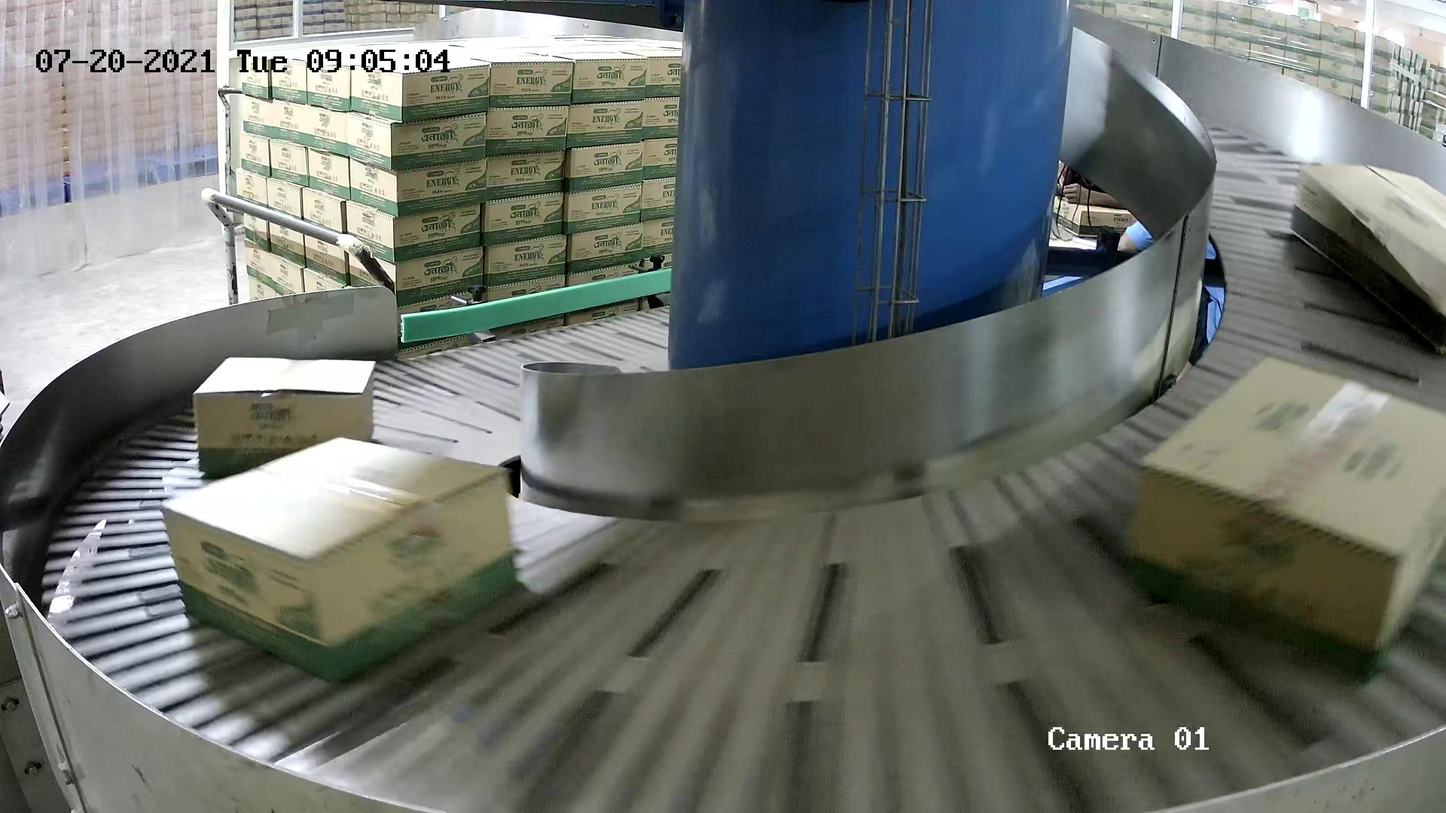Box: (1112, 352, 1446, 687), (157, 433, 522, 687), (1288, 160, 1446, 357), (191, 356, 376, 475)
